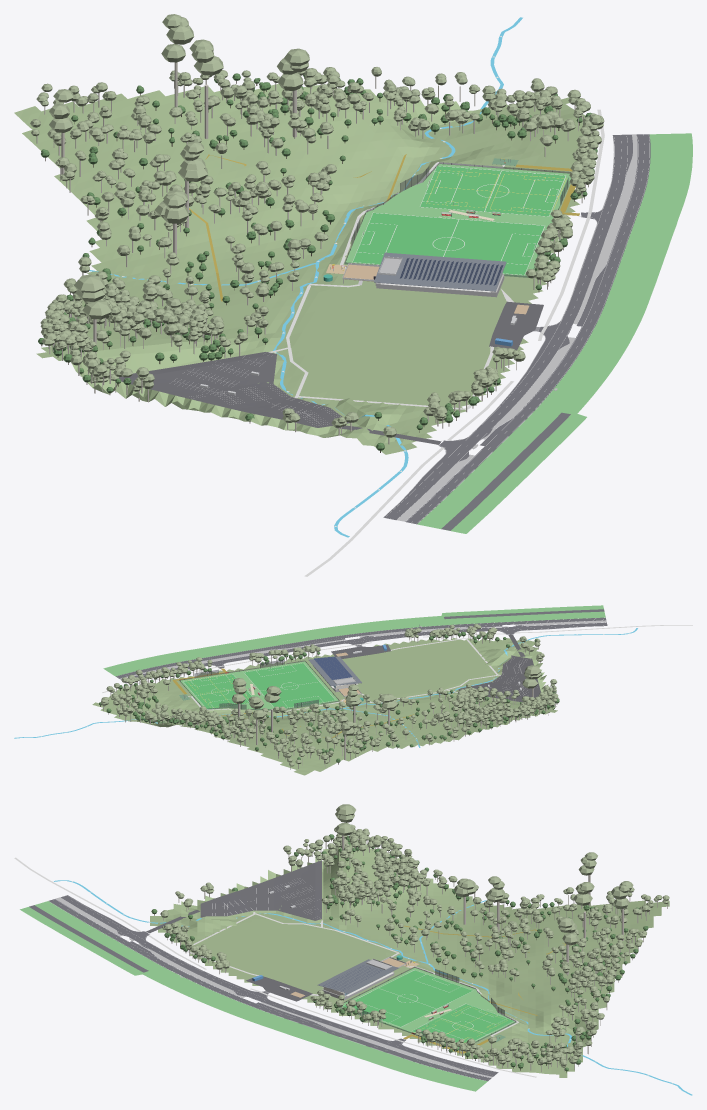
The model's file is KHFR_stage3_winter.glb.
3 views of the same model, one above another, from view 1: azimuth 30°, elevation 25°; view 2: azimuth 150°, elevation 25°; view 3: azimuth 270°, elevation 25° (orthographic). The views are drawn at different scales.
Visible parts, largest first — view 1: Reserve terrain, Bushland forest (euc_can), Road reserve (far verge), Bush planting zones (euc_can), Pitch 3, New car park (~220), Swansea Rd NE-bound (surveyed both edges), Giant eucalypts (canopies), Pitch 4, Swansea Rd SW-bound (2 lanes, smooth), Tennis precinct bush retained (euc_can), Bushland forest (wat_can) (+15 smaller); view 2: Reserve terrain, Bushland forest (euc_can), Road reserve (far verge), Bush planting zones (euc_can), Pitch 3, Giant eucalypts (canopies), Swansea Rd SW-bound (2 lanes, smooth), Tennis precinct bush retained (euc_can), Swansea Rd NE-bound (surveyed both edges), New car park (~220), Pitch 4, Bushland forest (wat_can) (+12 smaller); view 3: Reserve terrain, Bushland forest (euc_can), Road reserve (far verge), Bush planting zones (euc_can), New car park (~220), Pitch 3, Swansea Rd NE-bound (surveyed both edges), Giant eucalypts (canopies), Tennis precinct bush retained (euc_can), Swansea Rd SW-bound (2 lanes, smooth), Pitch 4, Bushland forest (wat_can) (+13 smaller).
Boxes of the visible parts, x1,y1,x2,y2 form: Reserve terrain: (14, 84, 600, 454); Bushland forest (euc_can): (30, 70, 396, 437); Road reserve (far verge): (417, 133, 692, 533); Bush planting zones (euc_can): (200, 67, 604, 420); Pitch 3: (353, 213, 544, 275); New car park (~220): (108, 352, 349, 427); Swansea Rd NE-bound (surveyed both edges): (383, 134, 632, 519); Giant eucalypts (canopies): (49, 14, 309, 319); Pitch 4: (420, 166, 565, 216); Swansea Rd SW-bound (2 lanes, smooth): (405, 134, 650, 524); Tennis precinct bush retained (euc_can): (40, 293, 230, 382); Bushland forest (wat_can): (41, 82, 384, 450); Reserve terrain: (92, 638, 557, 775); Bushland forest (euc_can): (182, 636, 557, 766); Road reserve (far verge): (103, 605, 605, 676); Bush planting zones (euc_can): (100, 624, 497, 738); Pitch 3: (244, 663, 335, 707); Giant eucalypts (canopies): (232, 665, 541, 735); Swansea Rd SW-bound (2 lanes, smooth): (116, 617, 606, 678); Tennis precinct bush retained (euc_can): (452, 686, 559, 724); Swansea Rd NE-bound (surveyed both edges): (121, 622, 607, 683); New car park (~220): (458, 655, 540, 702); Pitch 4: (184, 674, 251, 709); Bushland forest (wat_can): (206, 638, 550, 762); Reserve terrain: (150, 840, 669, 1077); Bushland forest (euc_can): (160, 832, 669, 993); Road reserve (far verge): (20, 901, 487, 1091); Bush planting zones (euc_can): (162, 922, 642, 1067); New car park (~220): (200, 860, 321, 920); Pitch 3: (343, 970, 472, 1026); Swansea Rd NE-bound (surveyed both edges): (61, 895, 498, 1076); Giant eucalypts (canopies): (335, 804, 633, 945); Tennis precinct bush retained (euc_can): (296, 824, 414, 903); Swansea Rd SW-bound (2 lanes, smooth): (49, 899, 491, 1081); Pitch 4: (412, 1004, 513, 1047); Bushland forest (wat_can): (151, 835, 648, 991).
Size of the model in its own units: 495 by 86.34 by 604.
